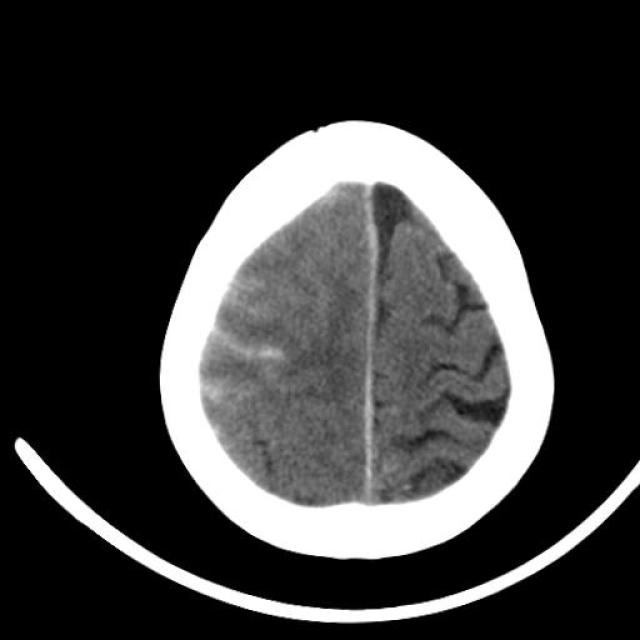Subarachnoid: (197, 296, 297, 412)
Subdural: (336, 180, 410, 501)
